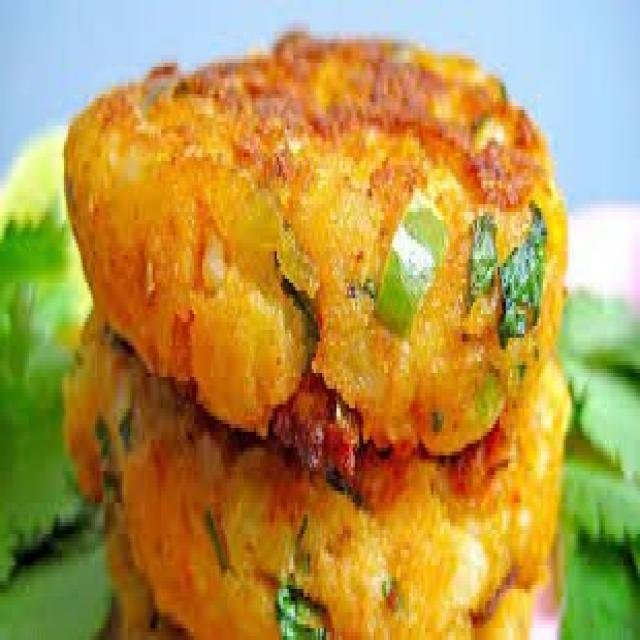Aloo Tikki: (67, 35, 570, 440), (65, 294, 574, 640)
